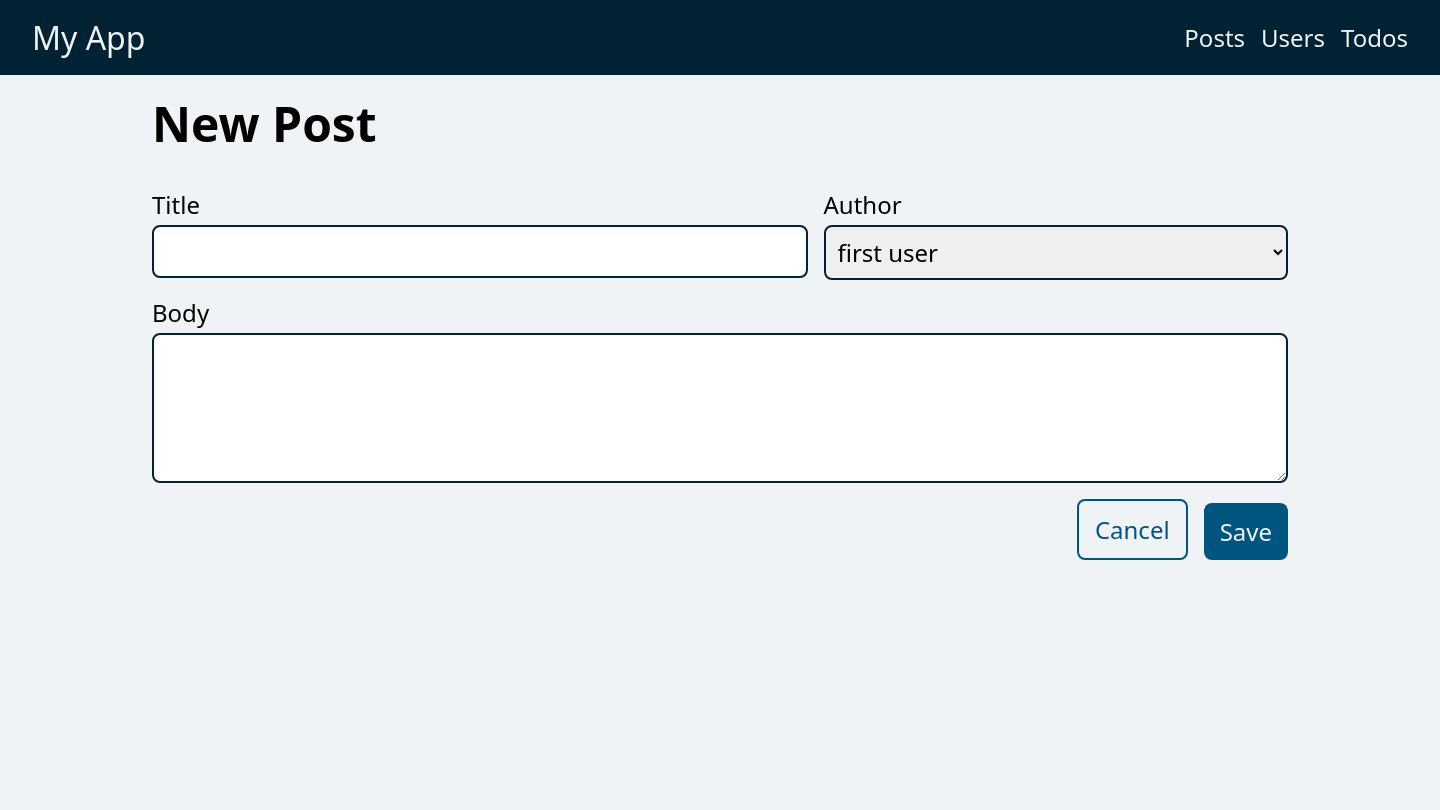
Test case: NewPost page › should render an error with bad input
Select "first user" in the dropdown labelled "Author" at (1056, 252), box [824,225,1288,280]
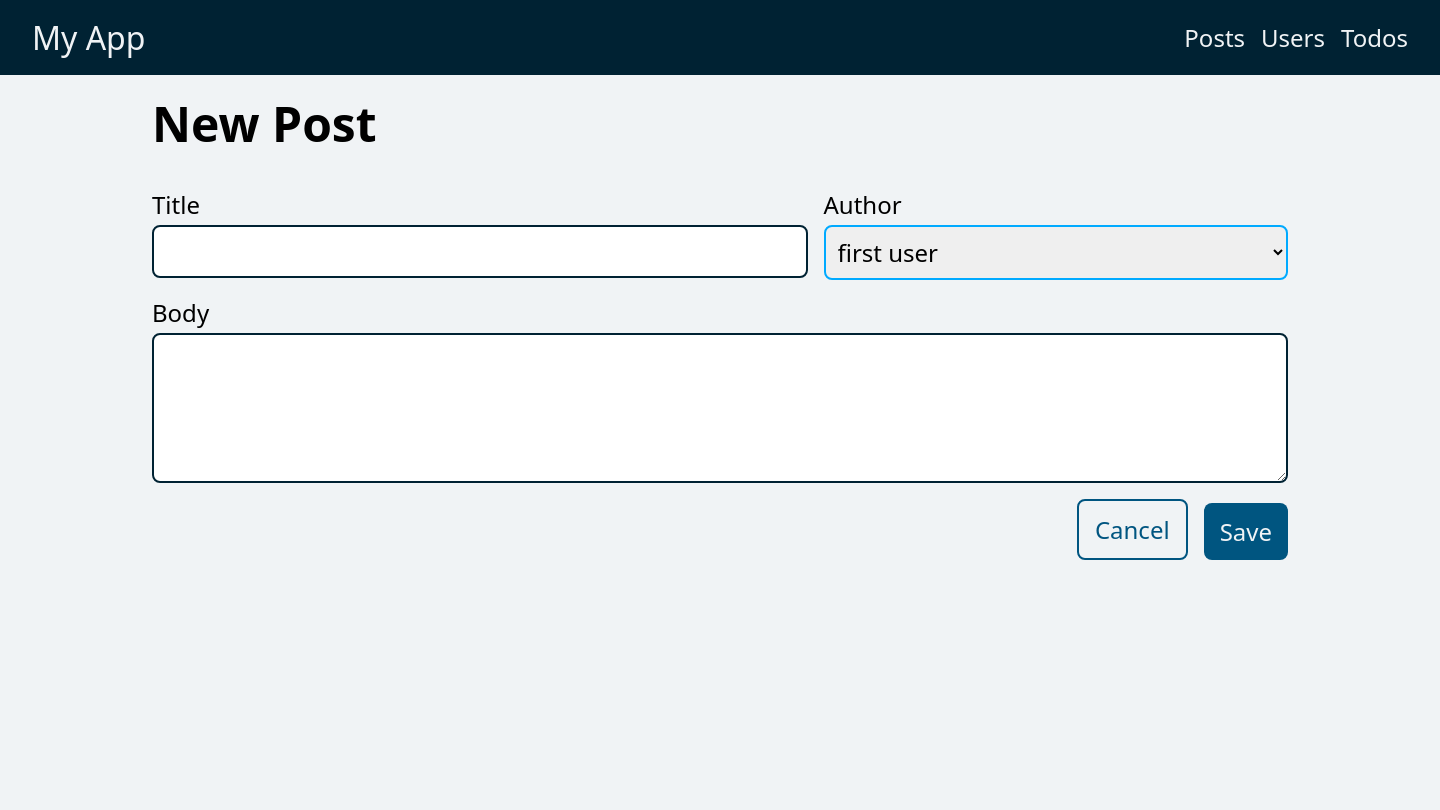
Type "new post body" into the text box labelled "Body".
click(720, 408); type("new post body")  # box [152,333,1288,483]
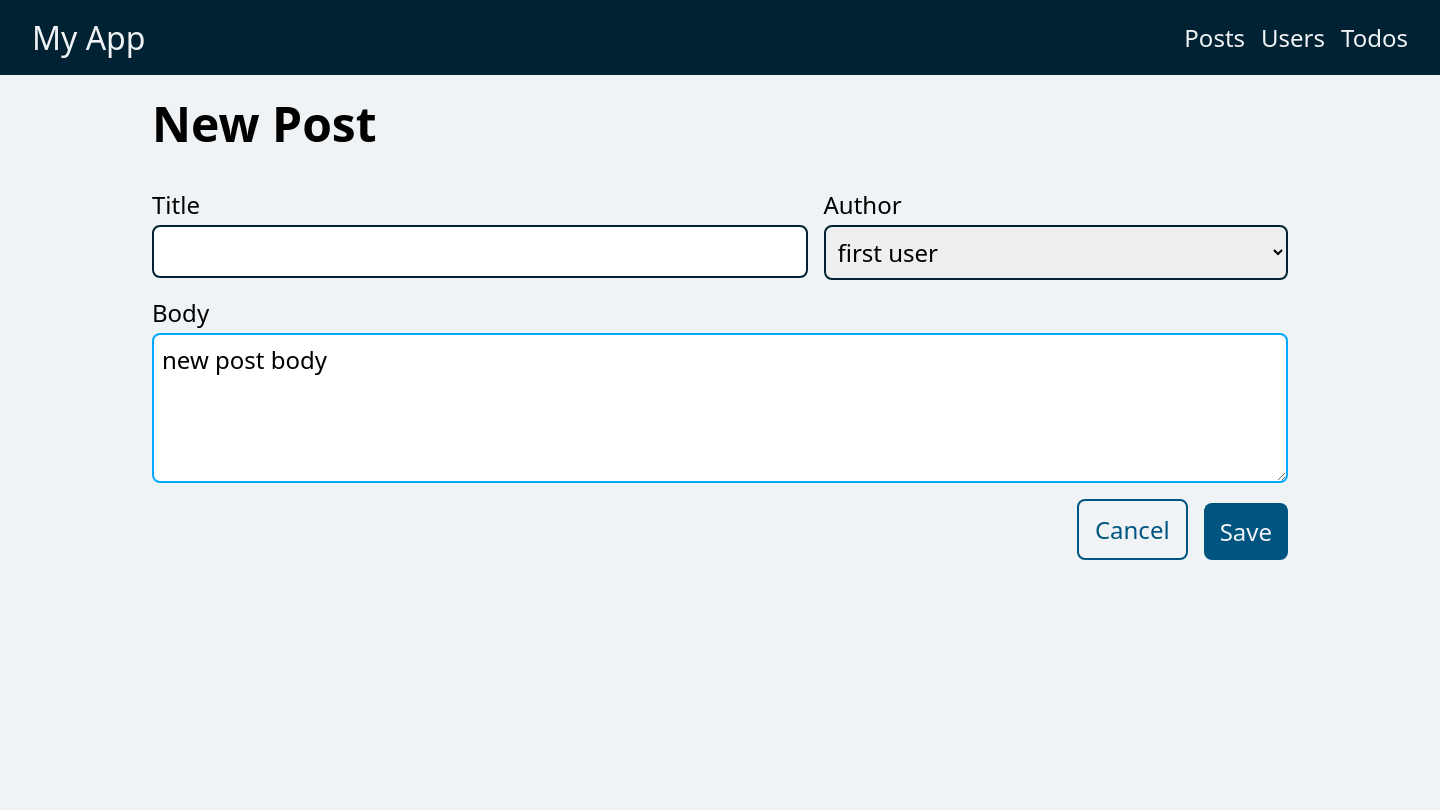
Click the button "Save".
click(1246, 532)  # box [1204,503,1288,560]
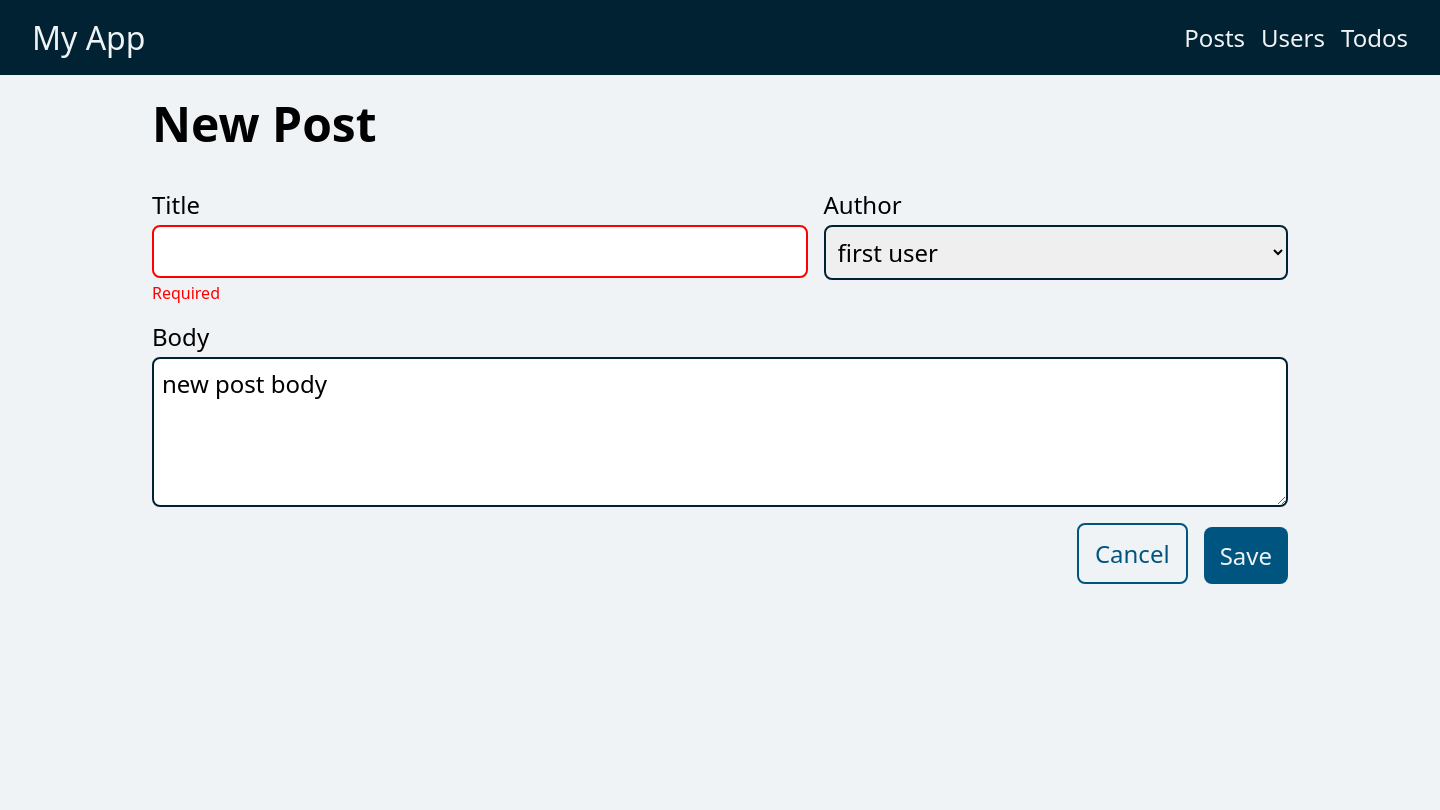
expect the text "Required" is shown: met, box [152,282,220,304]
